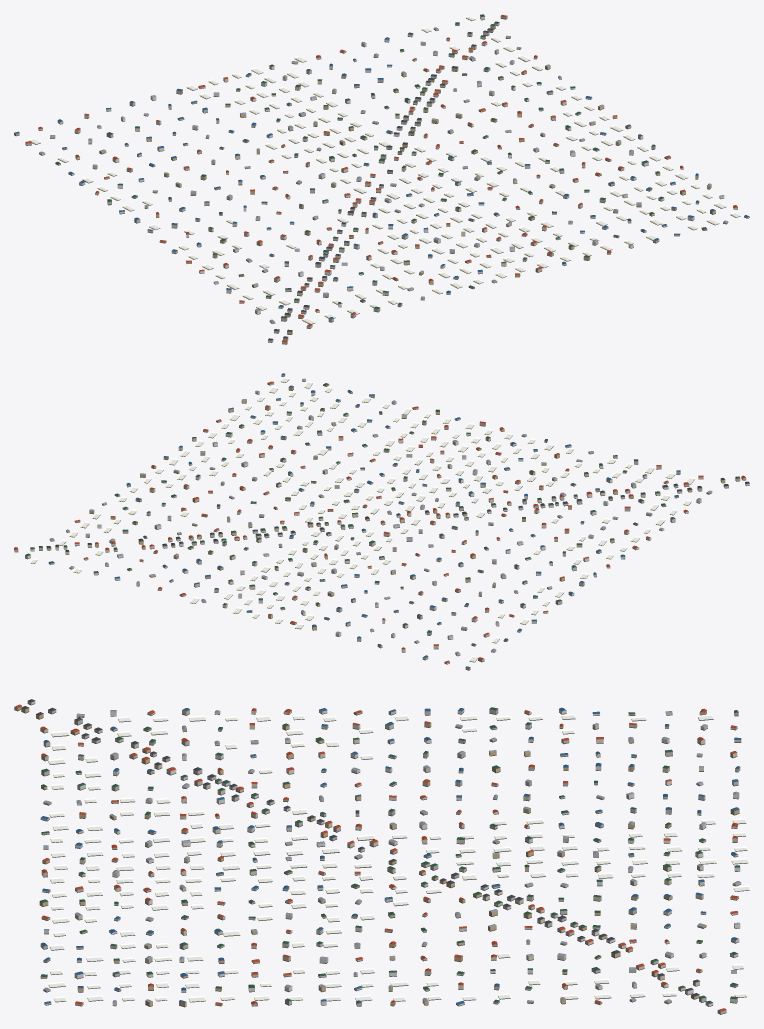
The model's file is buildings_T_W07_S03.glb.
3 views of the same model, one above another, from view 1: azimuth 30°, elevation 25°; view 2: azimuth 150°, elevation 25°; view 3: azimuth 270°, elevation 25° (orthographic). The views are drawn at different scales.
Visible parts, largest first — view 1: T_W07_S03_roofs_agri_greenhouse_arch, T_W07_S03_slope_seating_foundations, T_W07_S03_walls_wall_dalat_cream_stucco, T_W07_S03_walls_wall_french_ochre_villa, T_W07_S03_walls_wall_modern_warm_white, T_W07_S03_walls_wall_pastel_sand_gray, T_W07_S03_roofs_roof_pine_green_hip, T_W07_S03_roofs_roof_terracotta_gable, T_W07_S03_roofs_roof_zinc_silver_gable, T_W07_S03_roofs_roof_highland_blue_gable, T_W07_S03_roofs_roof_slate_French_villa_hip; view 2: T_W07_S03_slope_seating_foundations, T_W07_S03_roofs_agri_greenhouse_arch, T_W07_S03_walls_wall_modern_warm_white, T_W07_S03_walls_wall_dalat_cream_stucco, T_W07_S03_walls_wall_french_ochre_villa, T_W07_S03_walls_wall_pastel_sand_gray, T_W07_S03_roofs_roof_terracotta_gable, T_W07_S03_roofs_roof_pine_green_hip, T_W07_S03_roofs_roof_zinc_silver_gable, T_W07_S03_roofs_roof_highland_blue_gable, T_W07_S03_roofs_roof_slate_French_villa_hip; view 3: T_W07_S03_slope_seating_foundations, T_W07_S03_roofs_agri_greenhouse_arch, T_W07_S03_walls_wall_dalat_cream_stucco, T_W07_S03_walls_wall_modern_warm_white, T_W07_S03_walls_wall_french_ochre_villa, T_W07_S03_walls_wall_pastel_sand_gray, T_W07_S03_roofs_roof_terracotta_gable, T_W07_S03_roofs_roof_pine_green_hip, T_W07_S03_roofs_roof_zinc_silver_gable, T_W07_S03_roofs_roof_highland_blue_gable, T_W07_S03_roofs_roof_slate_French_villa_hip.
Boxes of the visible parts, bbox=[...] form: T_W07_S03_roofs_agri_greenhouse_arch: bbox=[28, 15, 740, 323]; T_W07_S03_slope_seating_foundations: bbox=[14, 17, 749, 344]; T_W07_S03_walls_wall_dalat_cream_stucco: bbox=[50, 28, 737, 328]; T_W07_S03_walls_wall_french_ochre_villa: bbox=[14, 30, 715, 344]; T_W07_S03_walls_wall_modern_warm_white: bbox=[38, 15, 749, 342]; T_W07_S03_walls_wall_pastel_sand_gray: bbox=[25, 16, 728, 333]; T_W07_S03_roofs_roof_pine_green_hip: bbox=[55, 14, 706, 308]; T_W07_S03_roofs_roof_terracotta_gable: bbox=[25, 15, 737, 342]; T_W07_S03_roofs_roof_zinc_silver_gable: bbox=[39, 27, 727, 322]; T_W07_S03_roofs_roof_highland_blue_gable: bbox=[14, 37, 748, 319]; T_W07_S03_roofs_roof_slate_French_villa_hip: bbox=[268, 28, 493, 340]; T_W07_S03_slope_seating_foundations: bbox=[15, 376, 749, 670]; T_W07_S03_roofs_agri_greenhouse_arch: bbox=[30, 377, 694, 661]; T_W07_S03_walls_wall_modern_warm_white: bbox=[25, 374, 749, 663]; T_W07_S03_walls_wall_dalat_cream_stucco: bbox=[63, 383, 703, 659]; T_W07_S03_walls_wall_french_ochre_villa: bbox=[46, 384, 746, 670]; T_W07_S03_walls_wall_pastel_sand_gray: bbox=[14, 379, 728, 661]; T_W07_S03_roofs_roof_terracotta_gable: bbox=[14, 381, 745, 662]; T_W07_S03_roofs_roof_pine_green_hip: bbox=[25, 383, 665, 640]; T_W07_S03_roofs_roof_zinc_silver_gable: bbox=[50, 378, 712, 653]; T_W07_S03_roofs_roof_highland_blue_gable: bbox=[115, 373, 680, 668]; T_W07_S03_roofs_roof_slate_French_villa_hip: bbox=[46, 476, 749, 551]; T_W07_S03_slope_seating_foundations: bbox=[14, 703, 749, 1014]; T_W07_S03_roofs_agri_greenhouse_arch: bbox=[48, 714, 749, 1001]; T_W07_S03_walls_wall_dalat_cream_stucco: bbox=[40, 710, 741, 1005]; T_W07_S03_walls_wall_modern_warm_white: bbox=[27, 701, 740, 1006]; T_W07_S03_walls_wall_french_ochre_villa: bbox=[14, 706, 739, 1006]; T_W07_S03_walls_wall_pastel_sand_gray: bbox=[40, 709, 738, 1014]; T_W07_S03_roofs_roof_terracotta_gable: bbox=[14, 704, 738, 1011]; T_W07_S03_roofs_roof_pine_green_hip: bbox=[40, 707, 739, 1003]; T_W07_S03_roofs_roof_zinc_silver_gable: bbox=[43, 710, 740, 1002]; T_W07_S03_roofs_roof_highland_blue_gable: bbox=[41, 707, 741, 1004]; T_W07_S03_roofs_roof_slate_French_villa_hip: bbox=[21, 699, 699, 996].
Bounding box in the file's own units: 1859 × 33.92 × 1814.
